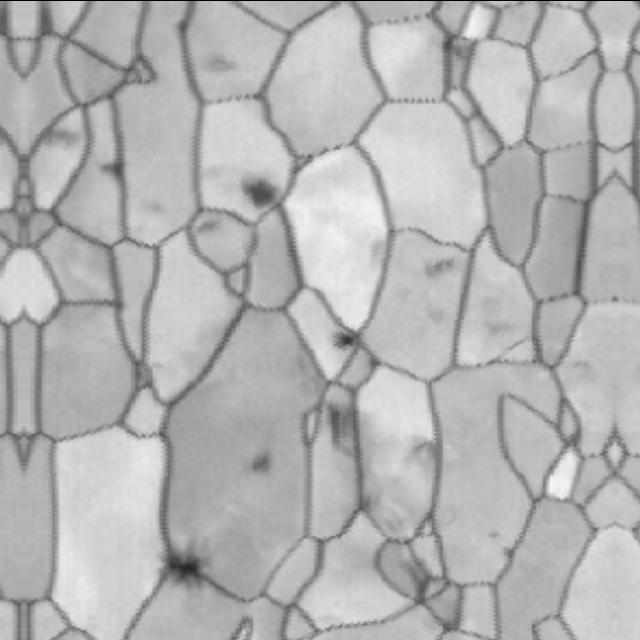good_void: (152, 535, 214, 587), (233, 166, 287, 218), (194, 43, 244, 93), (409, 249, 462, 291), (318, 400, 354, 461), (34, 116, 84, 158), (401, 427, 436, 473), (492, 537, 524, 571), (193, 213, 226, 242), (331, 326, 358, 359), (441, 33, 471, 62), (245, 444, 272, 476), (480, 522, 501, 545), (104, 156, 125, 177)
